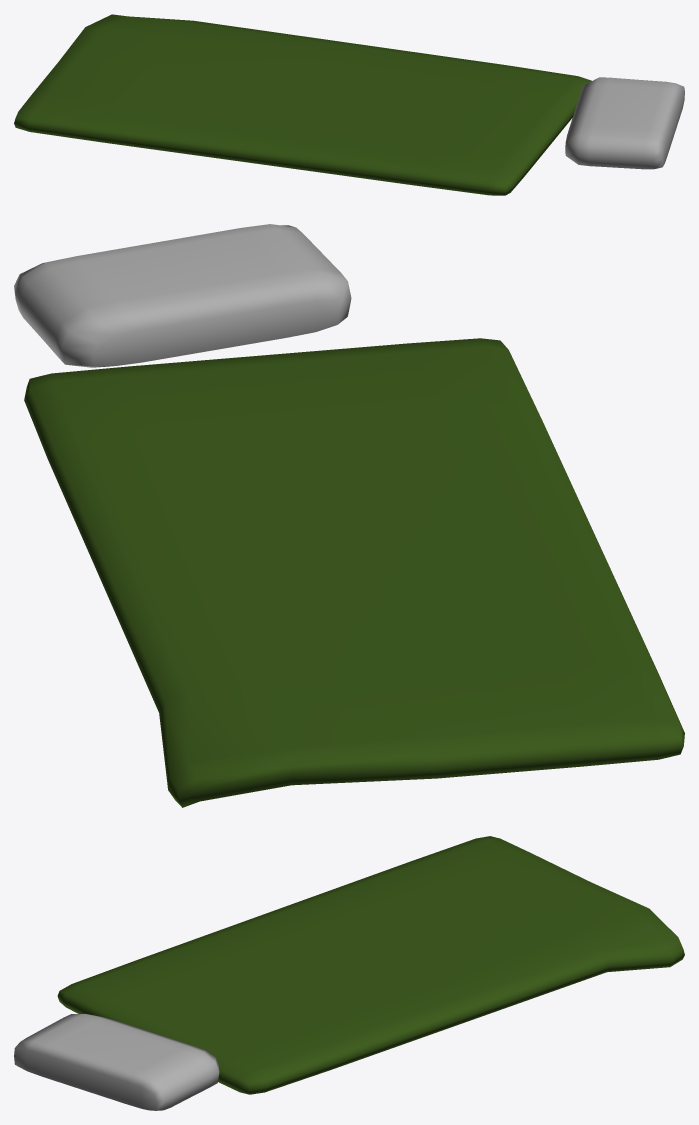
The model's file is bed.glb.
The picture shows the model from 3 angles, top to bottom: view 1: azimuth 30°, elevation 25°; view 2: azimuth 150°, elevation 25°; view 3: azimuth 270°, elevation 25°; orthographic projection. The views are drawn at different scales.
Parts seen in each view (by area): view 1: matress.001, matress.002; view 2: matress.001, matress.002; view 3: matress.001, matress.002.
Part boxes in pixels (box(x1,y1,x2,y2)): matress.001: box(14, 14, 591, 195); matress.002: box(565, 77, 684, 169); matress.001: box(24, 338, 684, 807); matress.002: box(14, 224, 351, 367); matress.001: box(57, 836, 684, 1094); matress.002: box(14, 1014, 219, 1110).
Size of the model in its own units: 1.61 by 0.1474 by 1.63.
